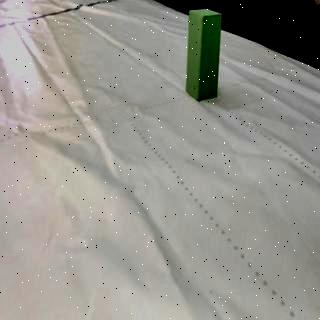greenbox: (187, 8, 220, 104)
